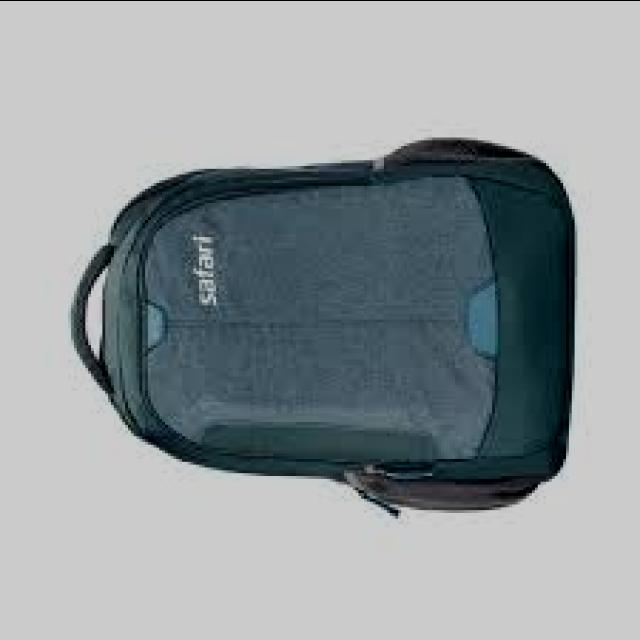backpack: (70, 138, 576, 519)
